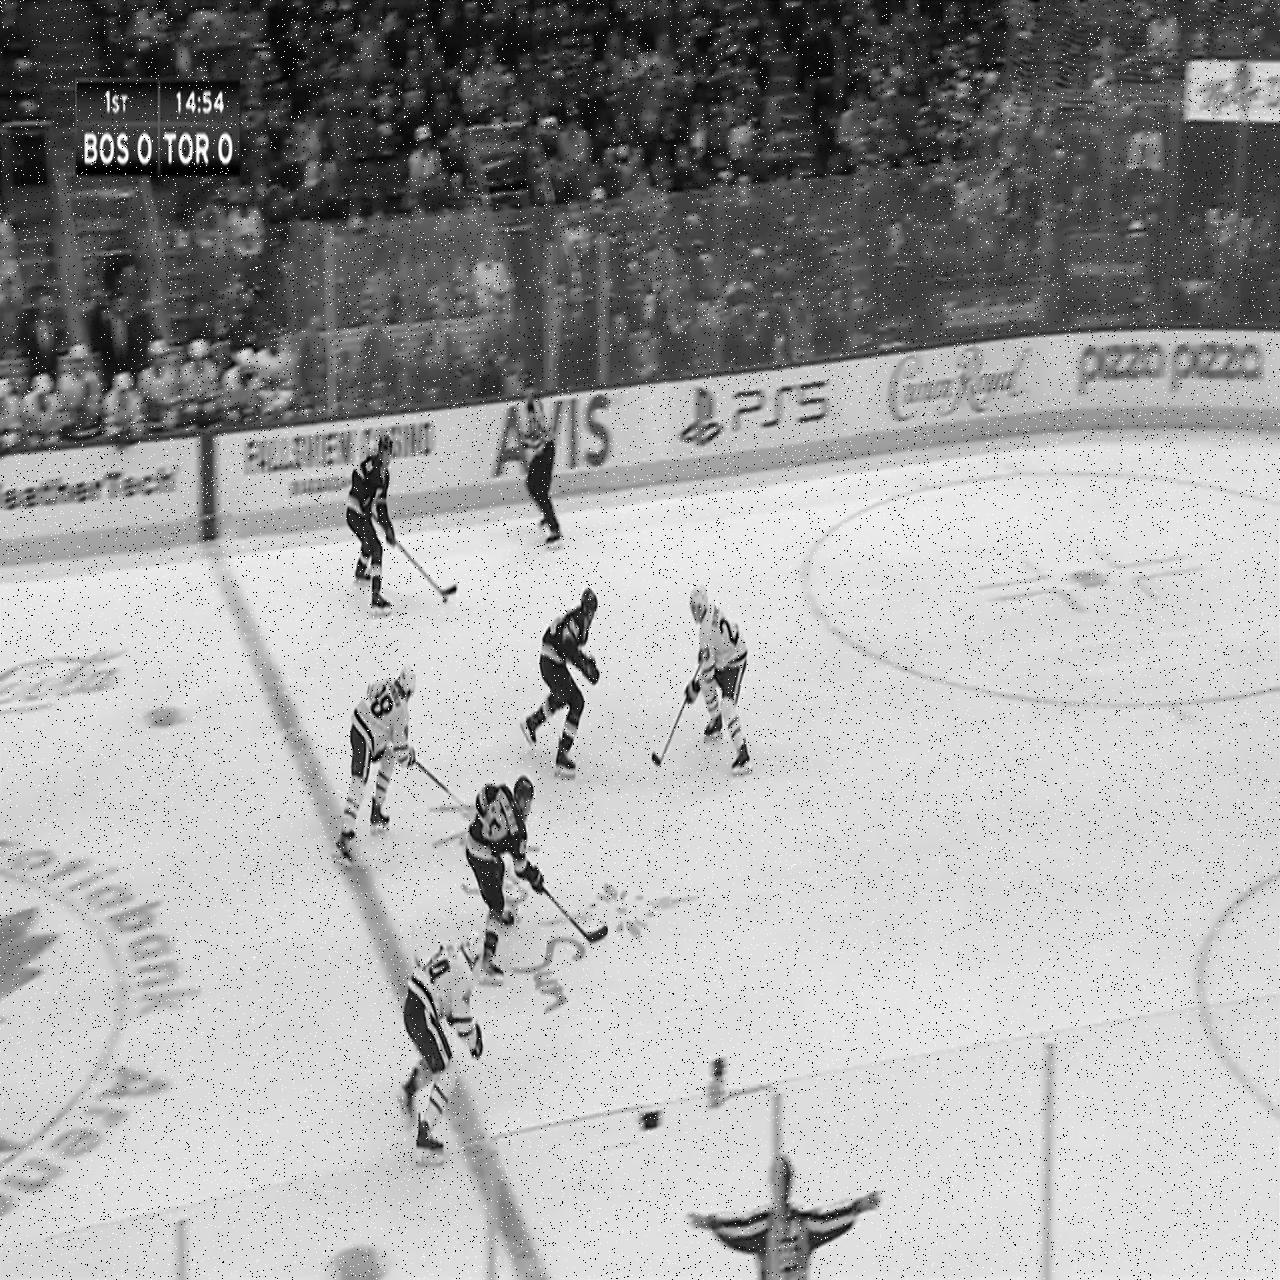Ad: (372, 789, 699, 1032), (1075, 315, 1267, 441), (4, 626, 137, 751), (234, 430, 435, 510), (877, 339, 1034, 438), (677, 369, 830, 469), (4, 446, 191, 524), (490, 392, 612, 488)
